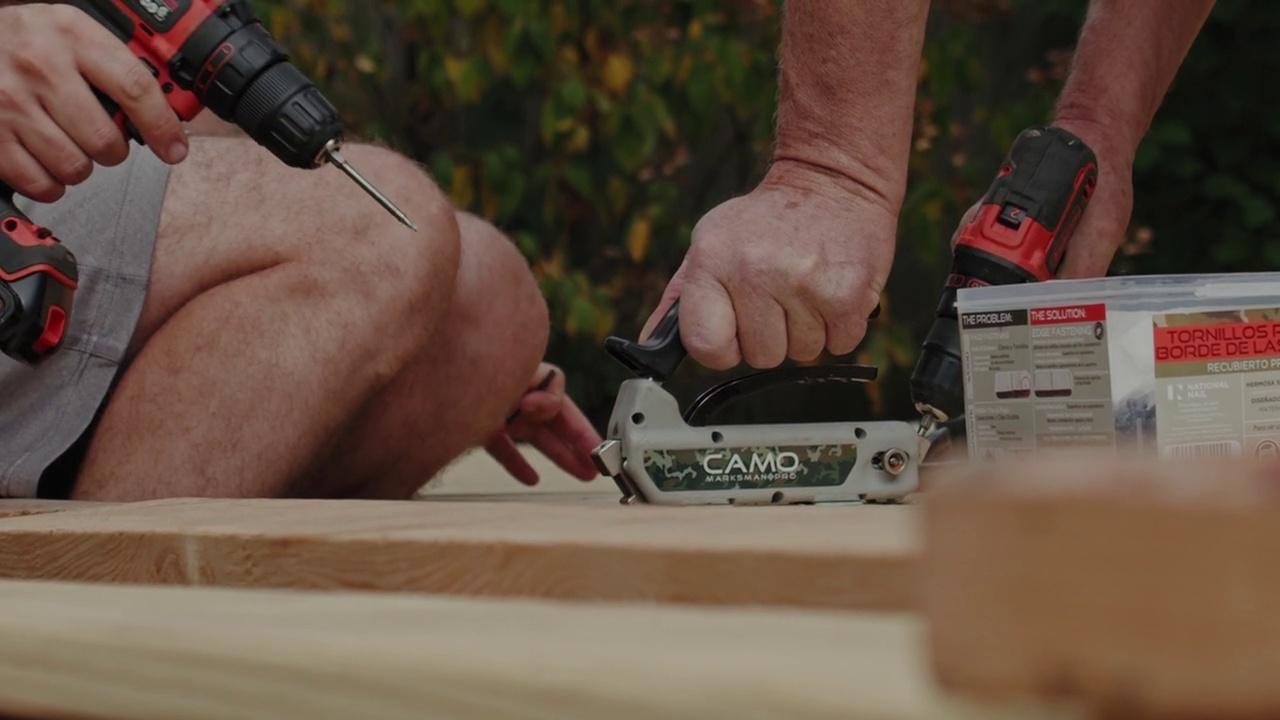driller: (1, 1, 425, 369), (905, 124, 1116, 442)
